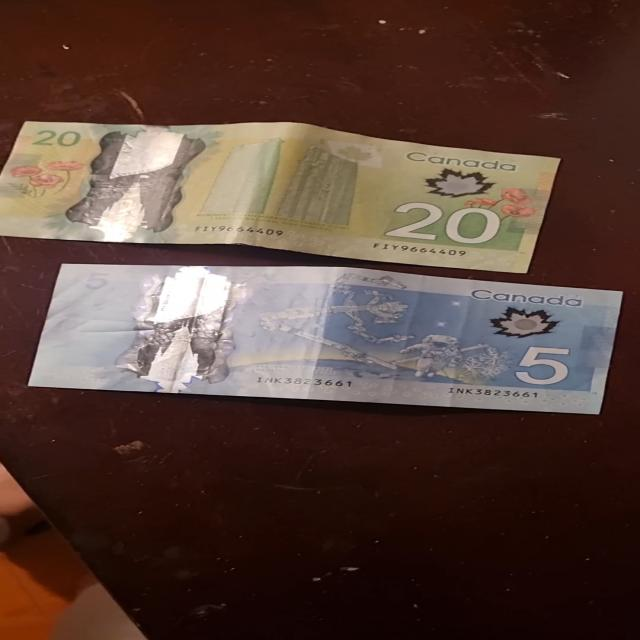20 cad: (7, 119, 565, 276)
5 cad: (62, 262, 622, 417)
